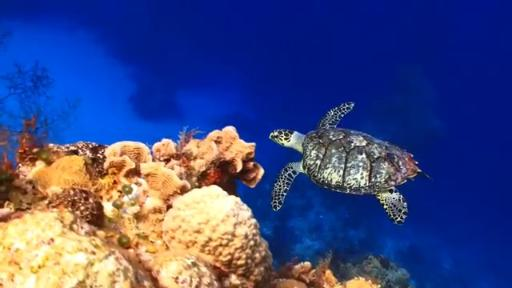Fish: (270, 102, 429, 223)
